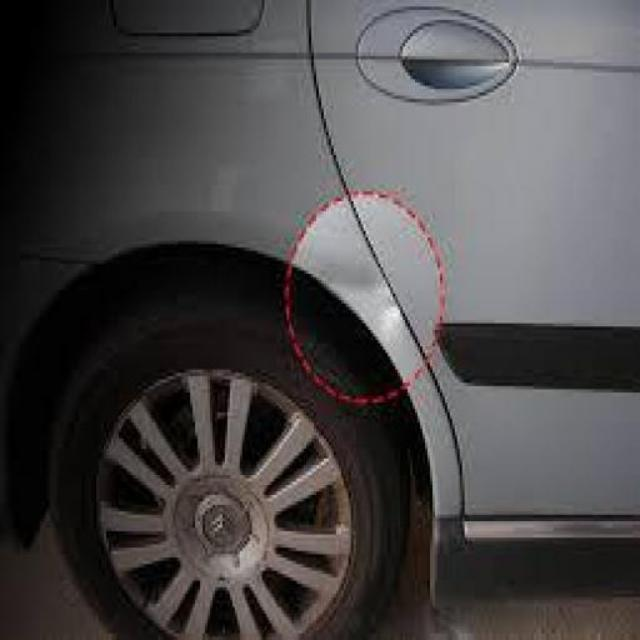dent: (298, 189, 456, 380)
